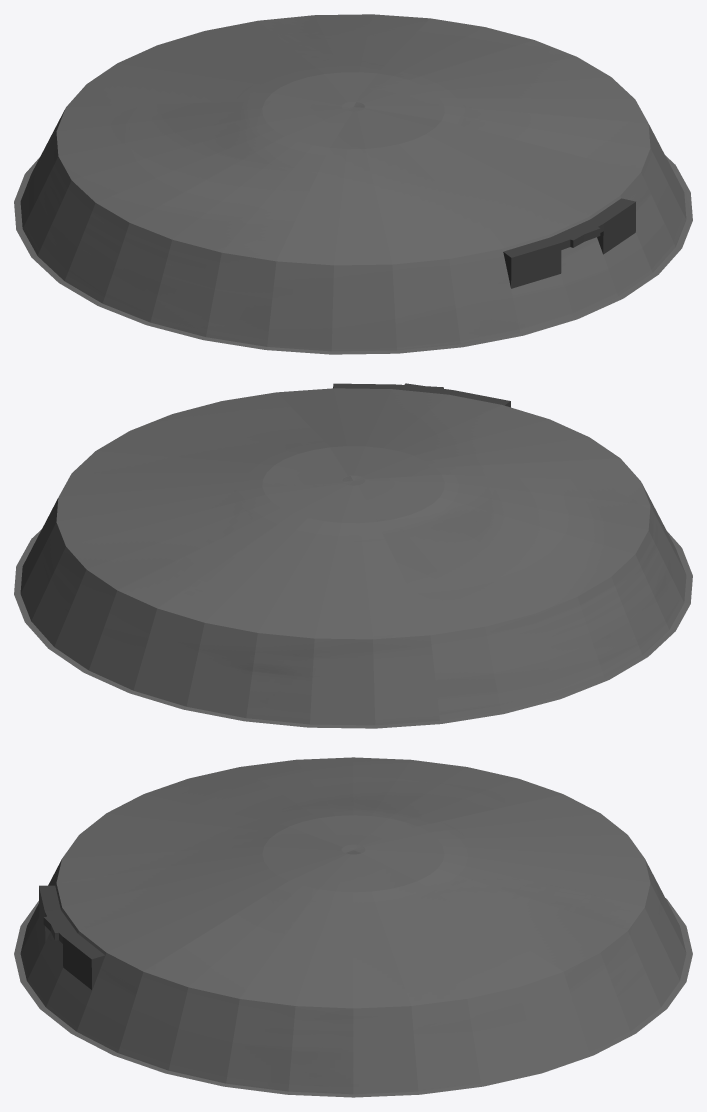
Rendered from testdome.dae.
3 views of the same model, one above another, from view 1: azimuth 30°, elevation 25°; view 2: azimuth 150°, elevation 25°; view 3: azimuth 270°, elevation 25° (orthographic).
Visible parts, largest first — view 1: base; view 2: base; view 3: base.
Boxes of the visible parts, bbox=[...] form: base: bbox=[14, 14, 692, 354]; base: bbox=[14, 383, 692, 728]; base: bbox=[14, 757, 692, 1097].
Size of what is drawn, in the model's own units: 3.98 by 3.98 by 0.6902.
